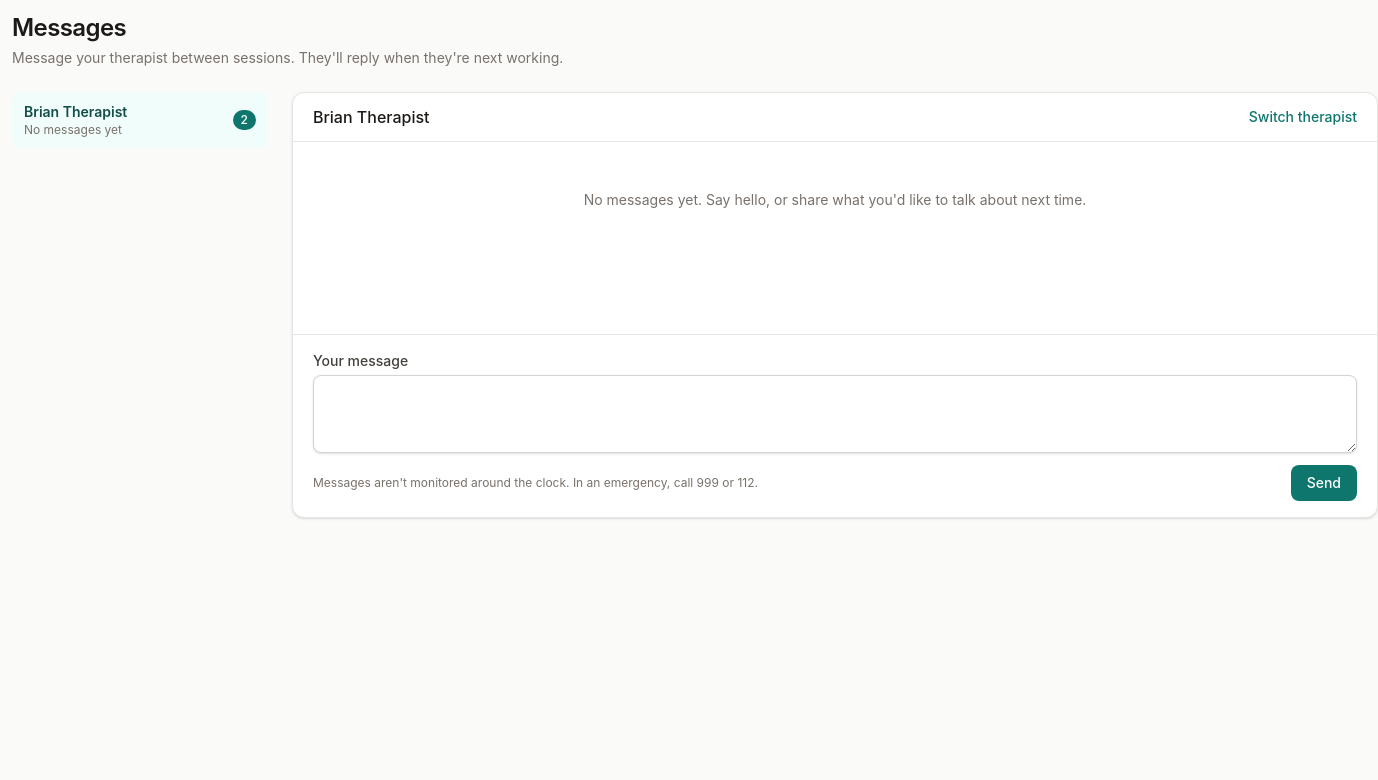
Test: MessagesPage › doesn't send an empty message
Click the button "Send".
click(1324, 483)  # box [1291,465,1357,501]
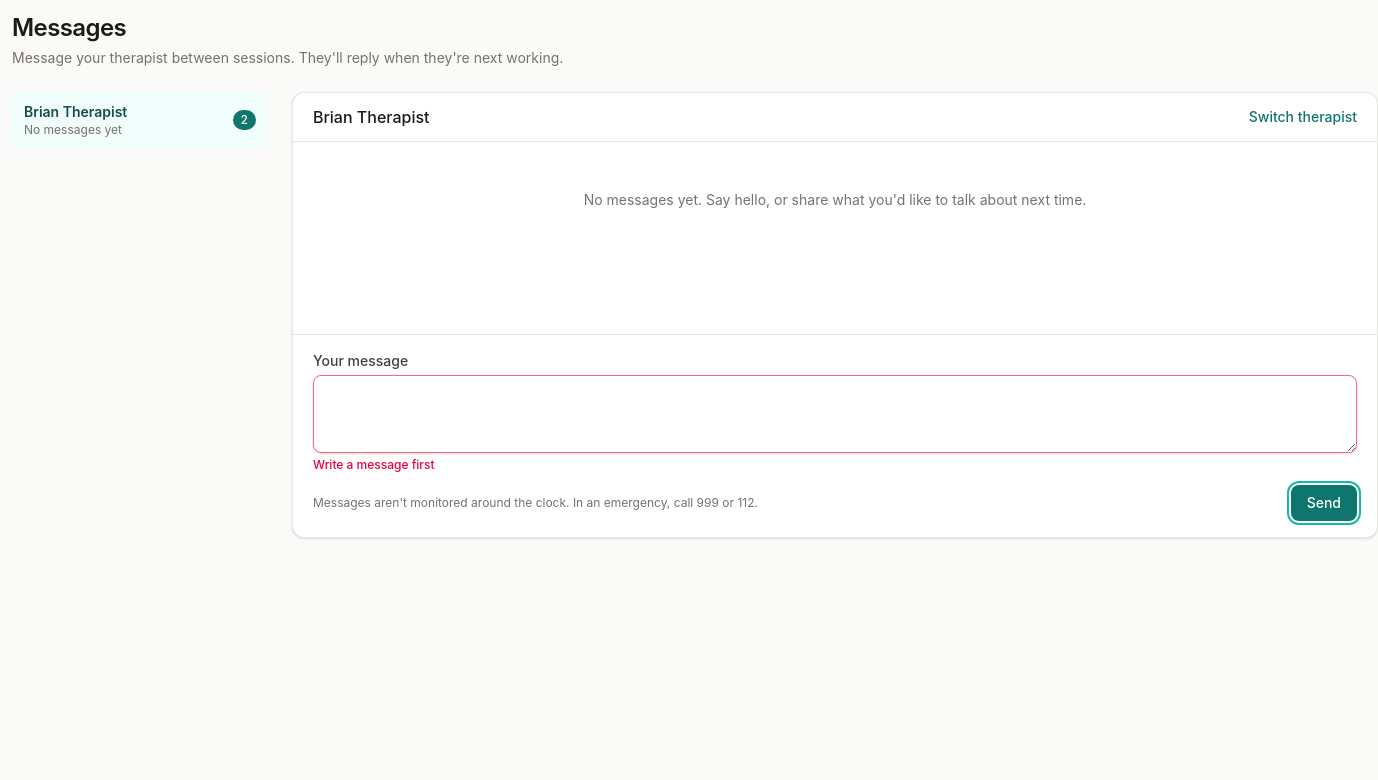
Result: the text "Write a message first" is shown at [313,457,434,472]
